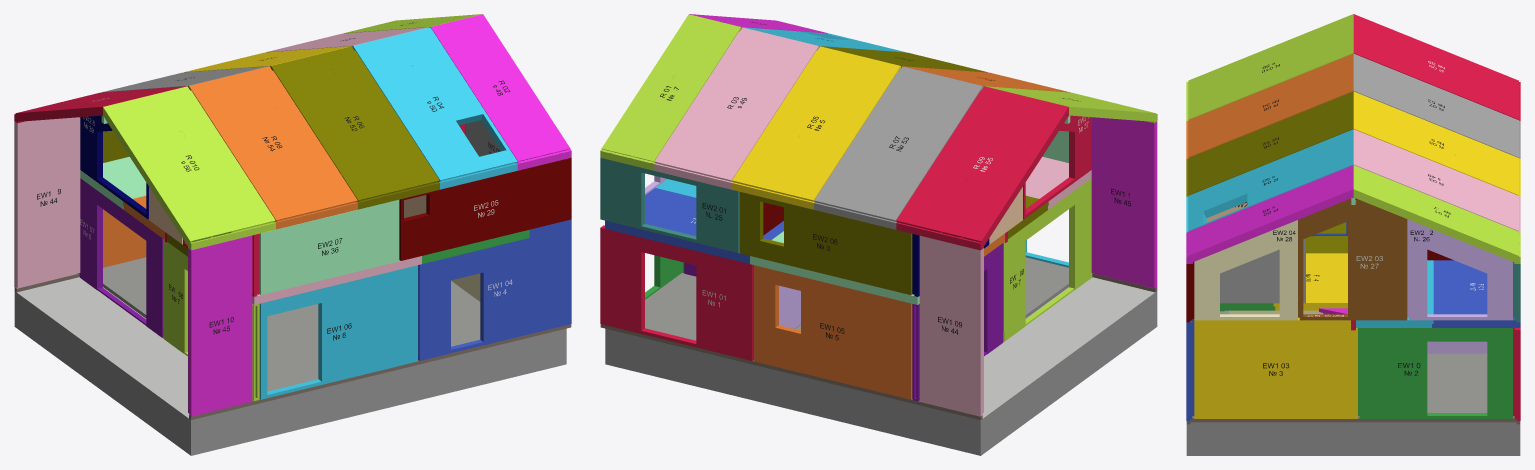
Rendered from konstr-doroteya-el-04.glb.
The picture shows the model from 3 angles, left to right: view 1: azimuth 30°, elevation 25°; view 2: azimuth 150°, elevation 25°; view 3: azimuth 270°, elevation 25°; orthographic projection. The views are drawn at different scales.
Visible parts, largest first — view 1: Component#42, R 010, R 06, R 08, EW1 04, R 04, EW1 06, EW1 09, EW1 10, EW2 05, R 02, EW2 07 (+15 smaller); view 2: Component#42, R 09, EW1 05, R 07, R 05, R 03, EW1 01, EW1 10, EW1 09, EW2 06, R 01, EW2 01 (+15 smaller); view 3: EW1 03, Component#42, EW1 02, EW2 03, R 09, R 010, R 08, R 07, R 06, R 05, R 03, R 04 (+16 smaller).
Part boxes in pixels (x1,y1,x2,y2): Component#42: (14, 257, 571, 455); R 010: (103, 86, 275, 250); R 06: (271, 46, 439, 209); R 08: (189, 66, 357, 229); EW1 04: (418, 219, 571, 360); R 04: (353, 27, 517, 189); EW1 06: (259, 265, 417, 399); EW1 09: (14, 117, 80, 288); EW1 10: (188, 235, 252, 416); EW2 05: (399, 157, 571, 260); R 02: (430, 14, 571, 170); EW2 07: (259, 200, 399, 294); Component#42: (600, 257, 1157, 455); R 09: (896, 86, 1068, 250); EW1 05: (754, 265, 912, 399); R 07: (814, 66, 982, 229); R 05: (732, 46, 900, 209); R 03: (654, 27, 818, 189); EW1 01: (600, 225, 753, 360); EW1 10: (1091, 117, 1157, 288); EW1 09: (919, 236, 983, 416); EW2 06: (740, 192, 912, 294); R 01: (600, 14, 741, 170); EW2 01: (600, 158, 739, 252); EW1 03: (1194, 317, 1357, 418); Component#42: (1186, 310, 1520, 455); EW1 02: (1358, 328, 1512, 418); EW2 03: (1298, 198, 1407, 320); R 09: (1353, 14, 1520, 120); R 010: (1186, 14, 1353, 120); R 08: (1186, 54, 1353, 158); R 07: (1353, 54, 1520, 158); R 06: (1186, 91, 1353, 196); R 05: (1353, 91, 1520, 196); R 03: (1353, 129, 1520, 232); R 04: (1186, 129, 1353, 232).
Size of the model in its own units: 11.12 by 7.95 by 8.96.
